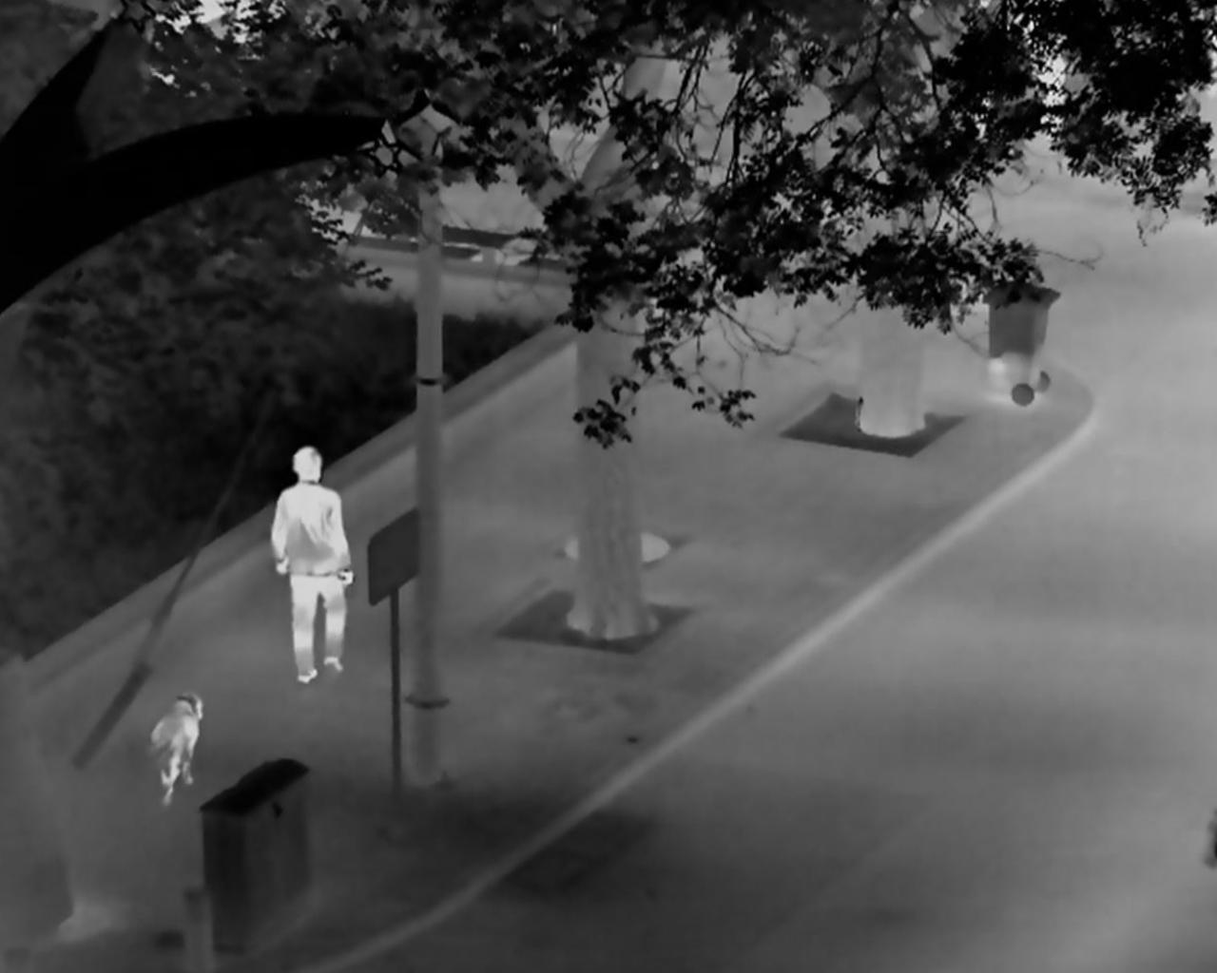person: (269, 444, 353, 685)
